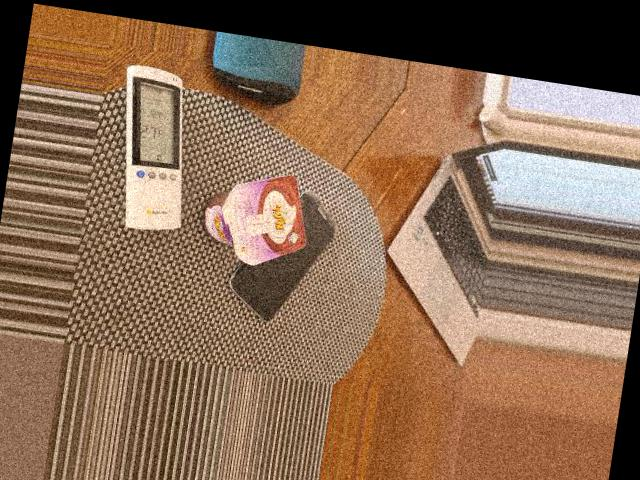milky: (199, 165, 315, 272)
